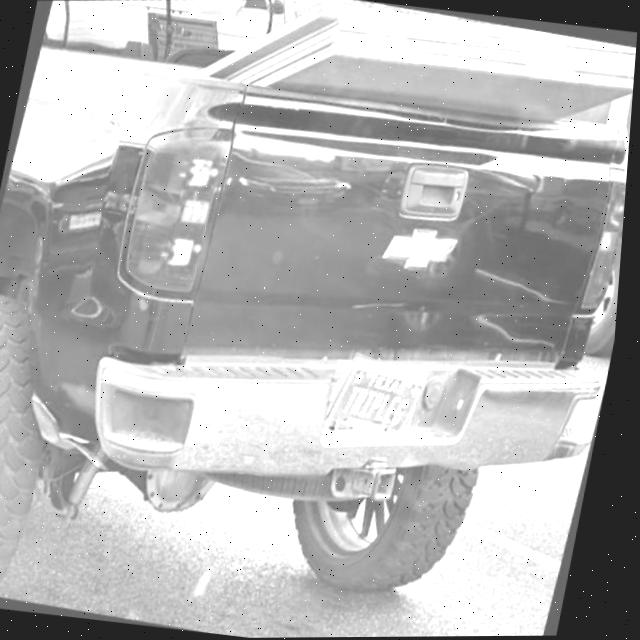LicensePlate: (333, 362, 432, 435)
